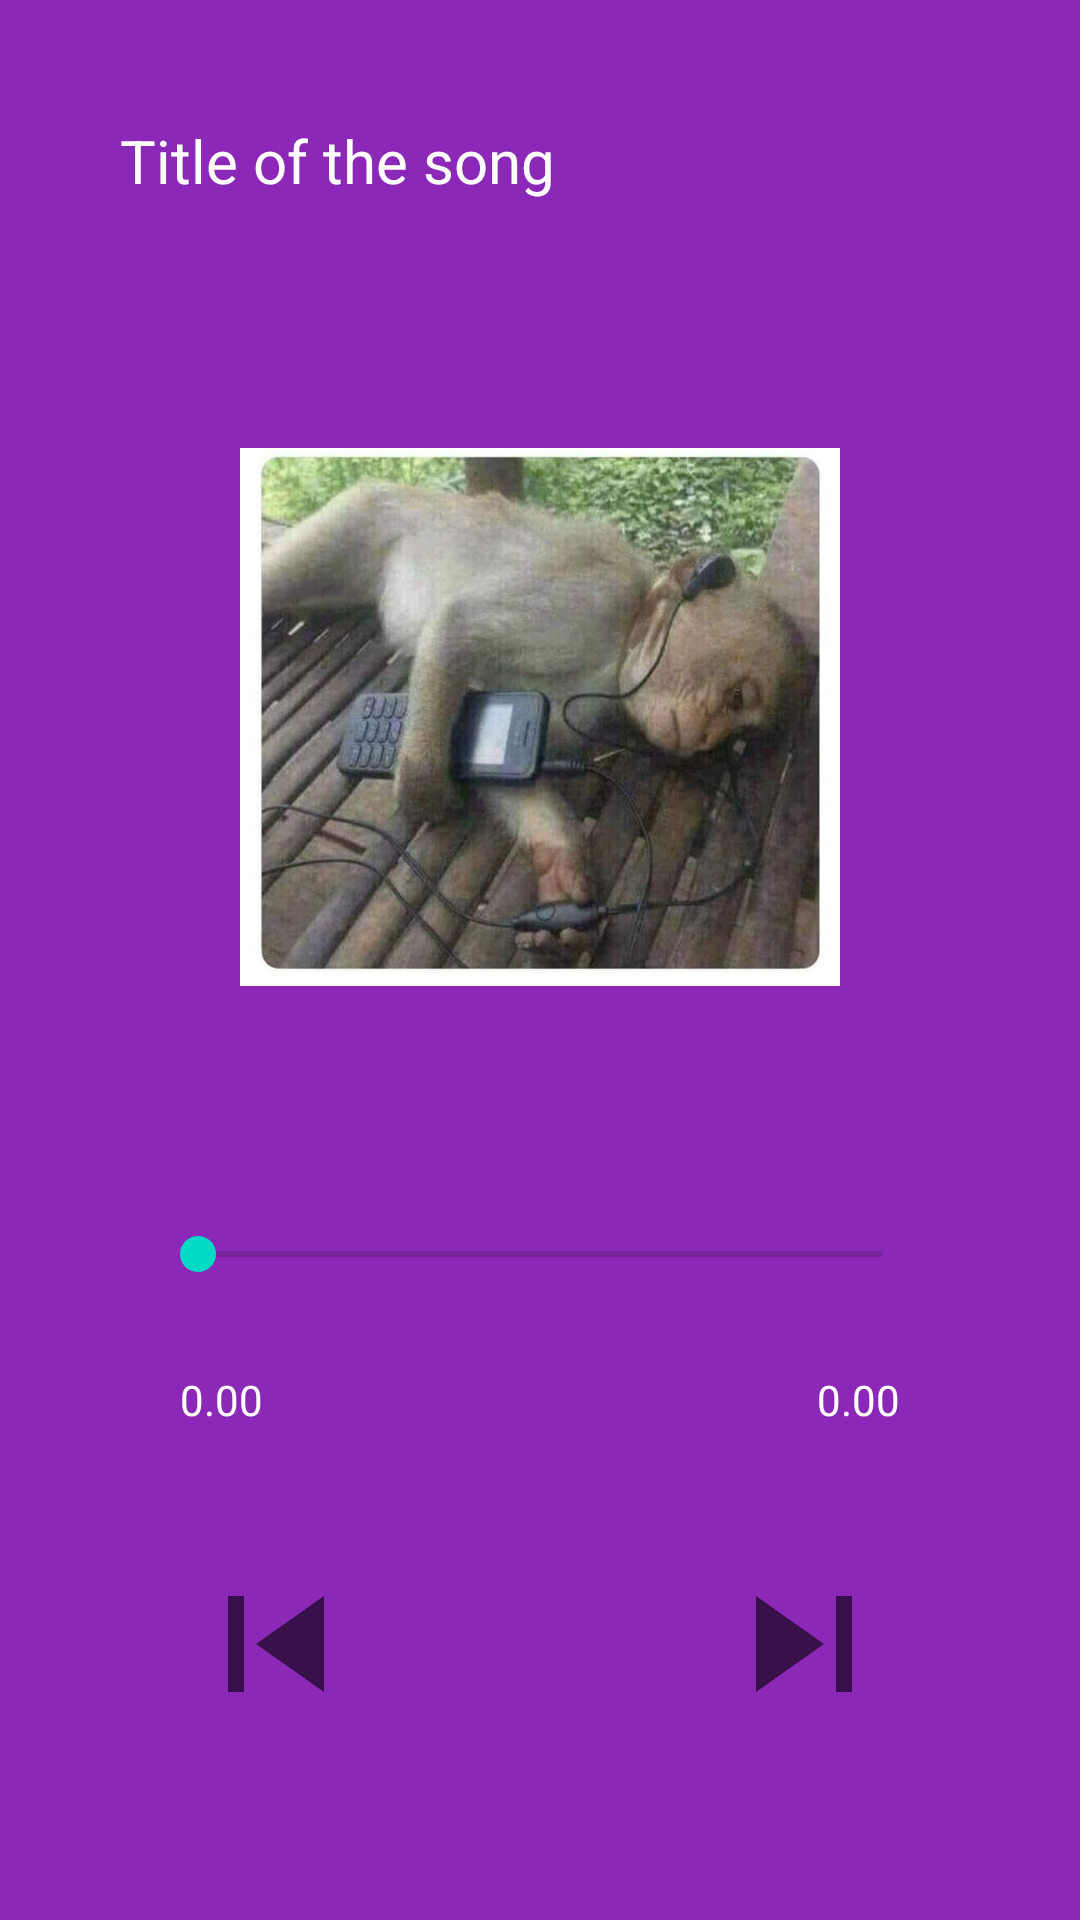

Named icons in this screenshot (1080w x 1920h) and their centers, (x,y):
skip next: (804,1644)
skip previous: (276,1644)
